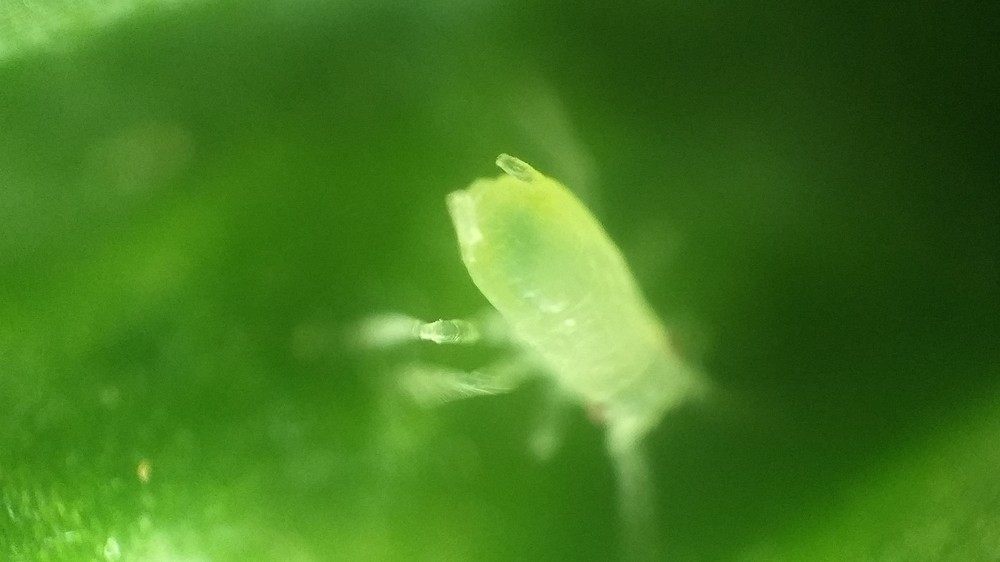Pulgon: (336, 107, 809, 525)
